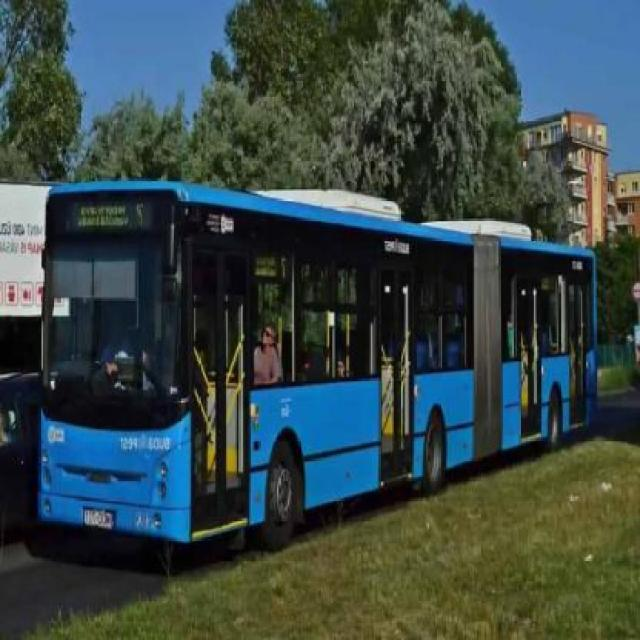bus: (33, 186, 596, 544)
